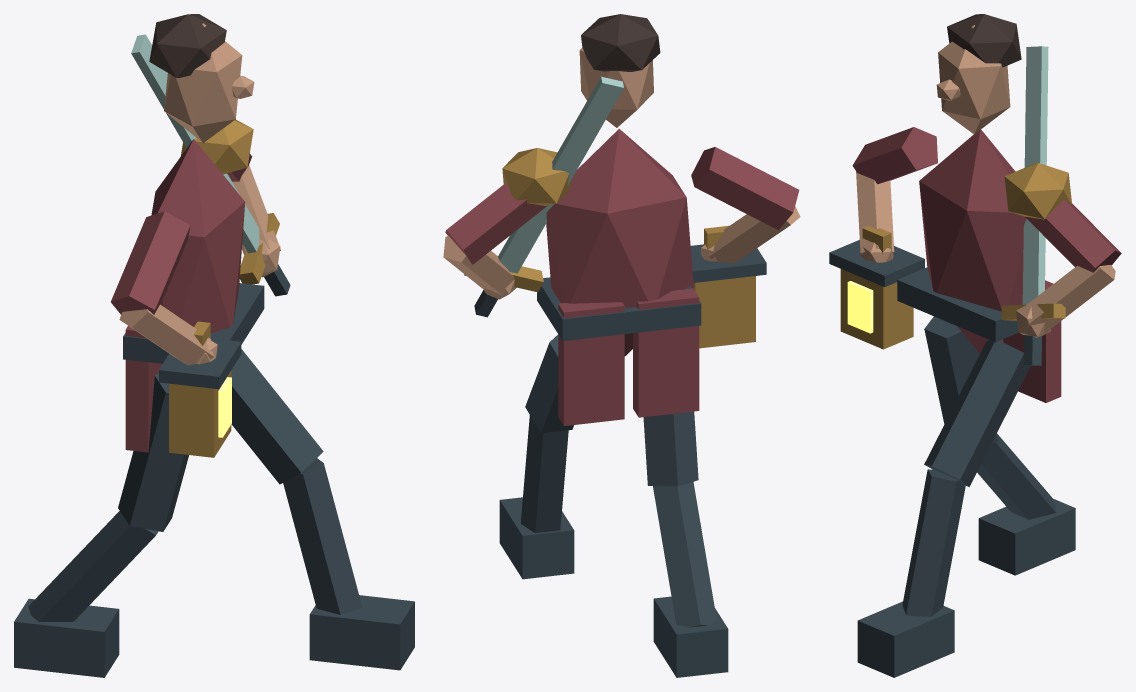
File: calibration-proxy.glb
3 views of the same model, side by side, from view 1: azimuth 30°, elevation 25°; view 2: azimuth 150°, elevation 25°; view 3: azimuth 270°, elevation 25° (orthographic). The views are drawn at different scales.
Visible parts, largest first — view 1: slender_coat, shin_1, boot_1, boot_-1, thigh_1, shin_-1, thigh_-1, male_face, upper_arm_-1, lantern_case, cropped_hair, forearm_-1 (+8 smaller); view 2: slender_coat, coattail_right, coattail_left, shin_-1, upper_arm_-1, sword_blade, shin_1, boot_-1, belt, boot_1, lantern_case, cropped_hair (+9 smaller); view 3: slender_coat, thigh_1, shin_1, boot_1, boot_-1, male_face, sword_blade, belt, shin_-1, upper_arm_1, upper_arm_-1, thigh_-1 (+13 smaller).
Part boxes in pixels (<box>): slender_coat: <box>151,139,245,333</box>; shin_1: <box>283,458,362,614</box>; boot_1: <box>309,595,414,670</box>; boot_-1: <box>14,598,119,677</box>; thigh_1: <box>231,349,323,484</box>; shin_-1: <box>28,511,158,621</box>; thigh_-1: <box>118,374,188,531</box>; male_face: <box>164,23,242,142</box>; upper_arm_-1: <box>111,211,190,314</box>; lantern_case: <box>169,370,231,457</box>; cropped_hair: <box>149,14,226,77</box>; forearm_-1: <box>119,304,213,365</box>; slender_coat: <box>546,128,693,356</box>; coattail_right: <box>558,302,624,425</box>; coattail_left: <box>633,288,699,417</box>; shin_-1: <box>653,481,716,627</box>; upper_arm_-1: <box>691,147,799,229</box>; sword_blade: <box>498,76,623,273</box>; shin_1: <box>520,415,568,533</box>; boot_-1: <box>653,596,728,677</box>; belt: <box>537,277,701,340</box>; boot_1: <box>499,497,574,579</box>; lantern_case: <box>693,276,755,348</box>; cropped_hair: <box>581,14,660,71</box>; slender_coat: <box>919,129,1026,353</box>; thigh_1: <box>924,340,1030,486</box>; shin_1: <box>902,469,965,616</box>; boot_1: <box>857,601,954,677</box>; boot_-1: <box>978,498,1075,575</box>; male_face: <box>938,25,1010,134</box>; sword_blade: <box>1022,46,1048,304</box>; belt: <box>897,267,1018,342</box>; shin_-1: <box>977,433,1056,519</box>; upper_arm_1: <box>1025,199,1121,272</box>; upper_arm_-1: <box>852,127,937,184</box>; thigh_-1: <box>924,316,997,444</box>.
Bounding box in the file's own units: 0.9511 × 1.81 × 0.8203.
